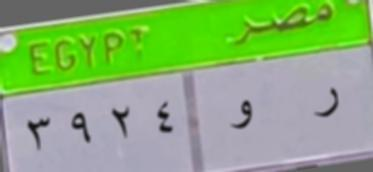2: (106, 104, 136, 143)
3: (24, 113, 55, 156)
4: (153, 102, 179, 137)
9: (68, 110, 94, 148)
raa: (309, 79, 344, 123)
waw: (224, 98, 259, 136)
